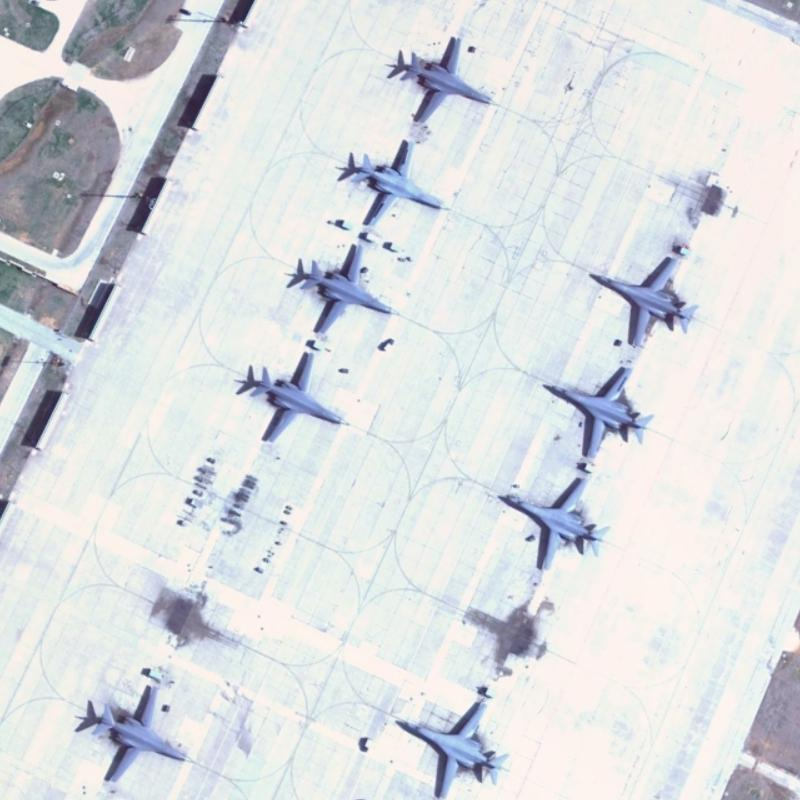A10: (385, 689, 514, 799), (535, 356, 662, 465), (489, 466, 609, 573), (580, 244, 700, 351), (87, 676, 201, 788), (230, 337, 346, 445), (382, 26, 498, 127), (281, 233, 397, 334), (334, 131, 450, 232)
